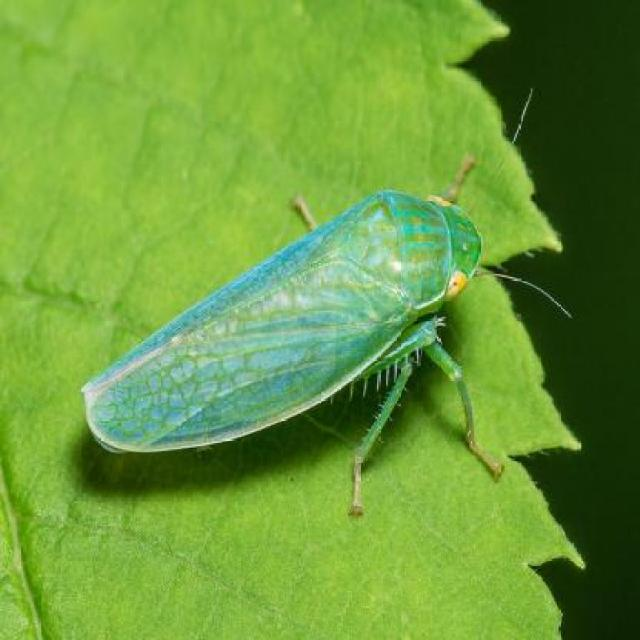green-leafhopper: (81, 189, 502, 512)
